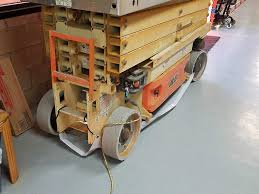Scissor Lift: (22, 1, 221, 161)
